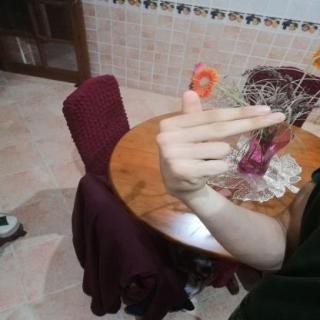GHAYN: (148, 85, 296, 204)
